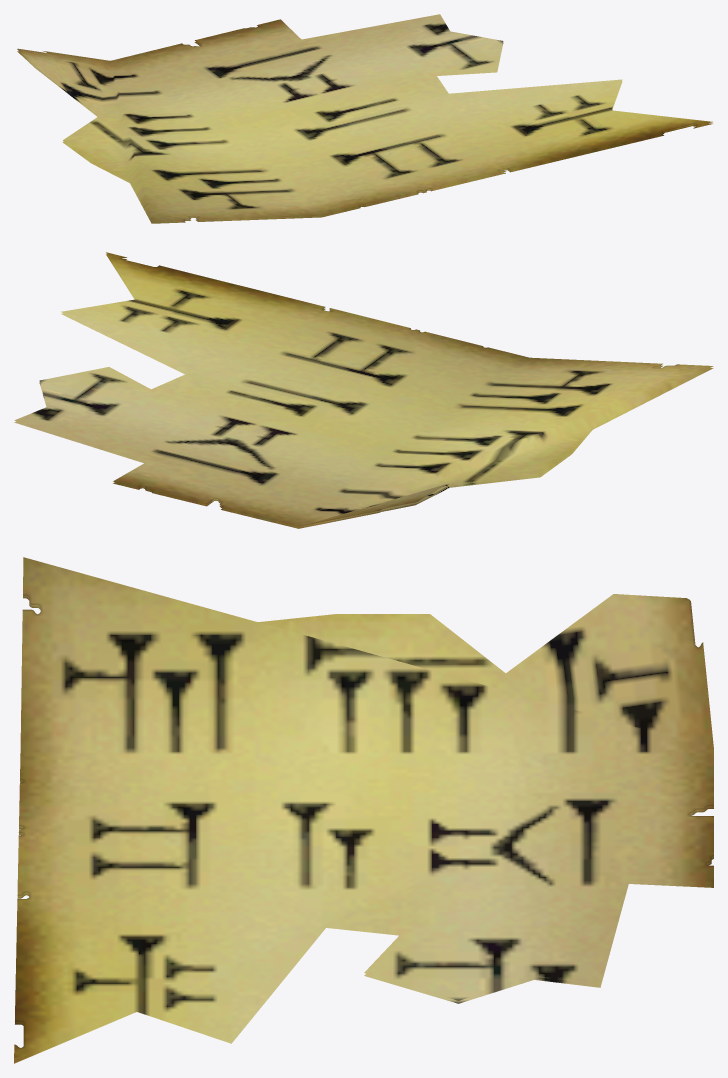
Rendered from uldamanscrolldebris03.obj.
The picture shows the model from 3 angles, top to bottom: view 1: azimuth 30°, elevation 25°; view 2: azimuth 150°, elevation 25°; view 3: azimuth 270°, elevation 25°; orthographic projection. The views are drawn at different scales.
Parts seen in each view (by area): view 1: uldamanscrolldebris03; view 2: uldamanscrolldebris03; view 3: uldamanscrolldebris03.
Boxes of the visible parts, x1=… form: uldamanscrolldebris03: x1=17, y1=14, x2=713, y2=223; uldamanscrolldebris03: x1=14, y1=252, x2=713, y2=528; uldamanscrolldebris03: x1=14, y1=557, x2=713, y2=1063.
Bounding box in the file's own units: 1.29 × 0.0985 × 0.8538.
